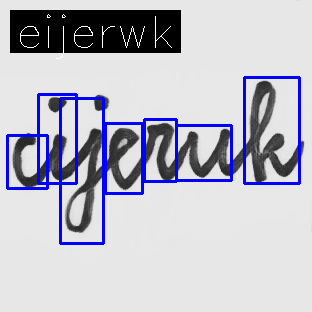c: (9, 130, 38, 190)
e: (106, 126, 142, 192)
i: (43, 95, 70, 182)
j: (63, 92, 111, 234)
k: (247, 77, 288, 184)
r: (144, 118, 175, 184)
u: (184, 126, 232, 179)
